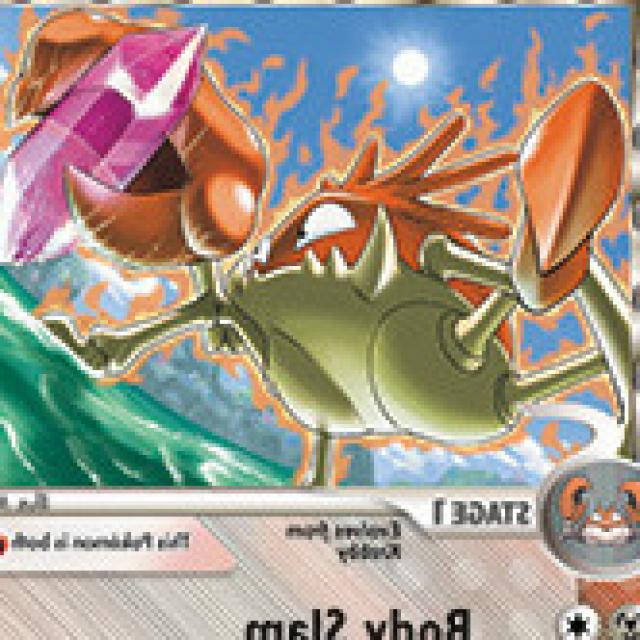Kingler: (22, 16, 612, 480)
